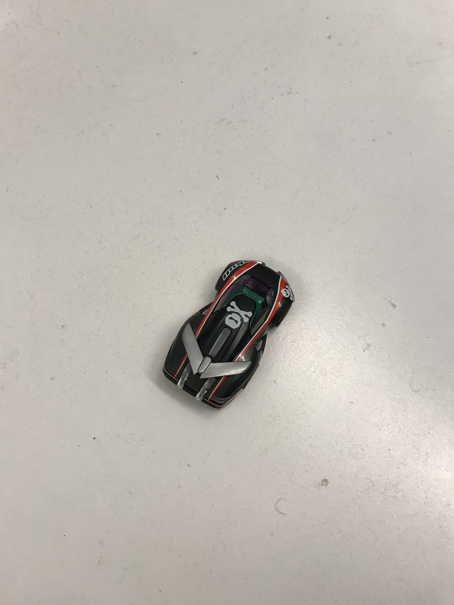Skull: (161, 259, 295, 409)
